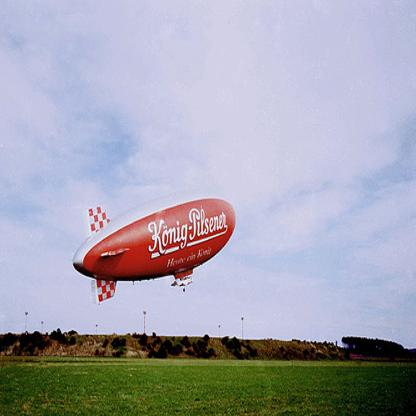Airship: (72, 192, 241, 301)
